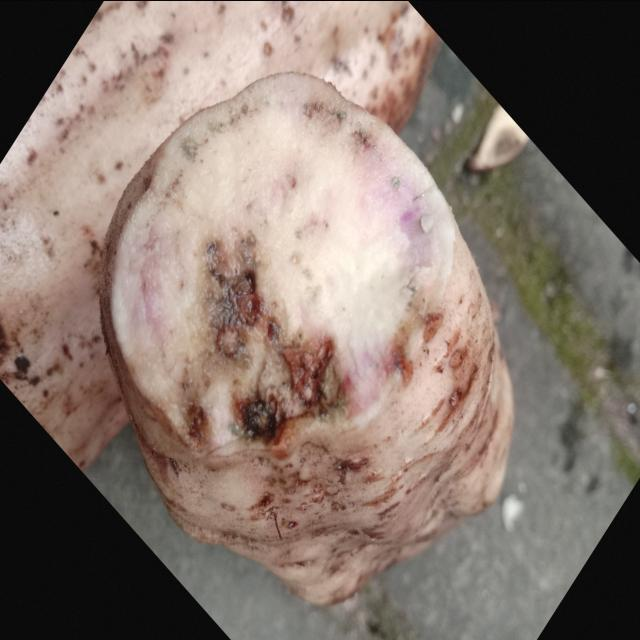Sick Sweet Potato_Tuber Rot: (101, 73, 456, 455)
